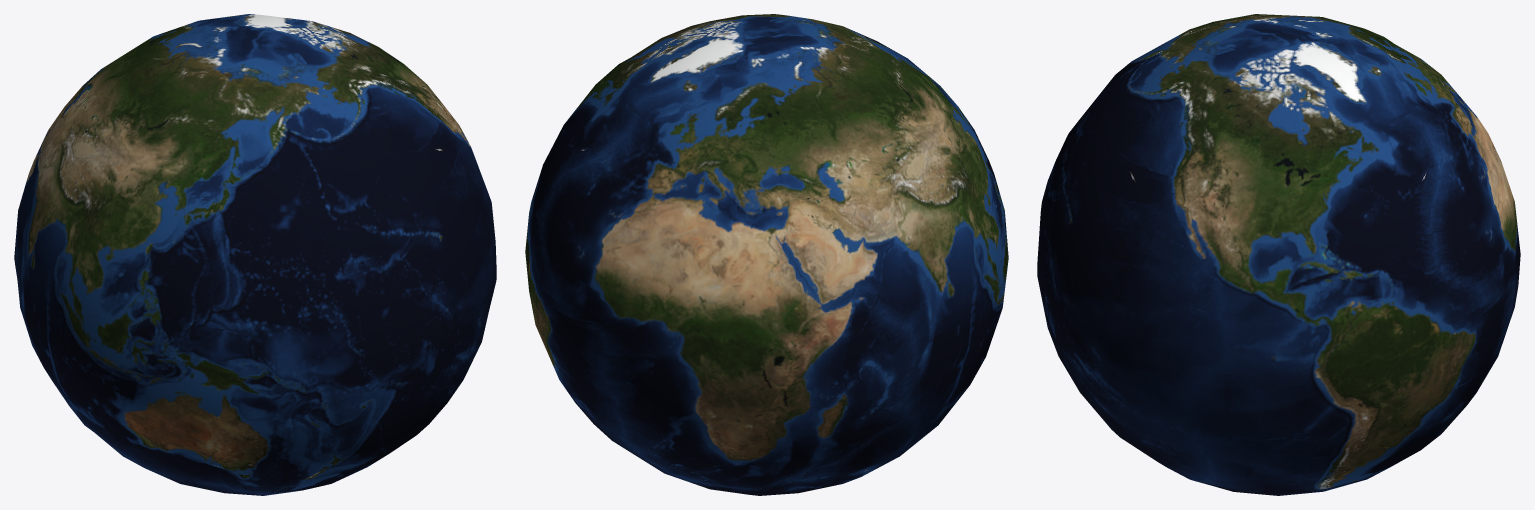
The model's file is Earth.glb.
3 renders of one model, left to right at view 1: azimuth 30°, elevation 25°; view 2: azimuth 150°, elevation 25°; view 3: azimuth 270°, elevation 25°, orthographic.
Visible parts, largest first — view 1: Cube.001; view 2: Cube.001; view 3: Cube.001.
Part boxes in pixels (<box>): Cube.001: <box>14,14,496,495</box>; Cube.001: <box>525,14,1008,495</box>; Cube.001: <box>1037,14,1520,495</box>.
Bounding box in the file's own units: 995 × 997 × 998.
1 material, 1 textured.
